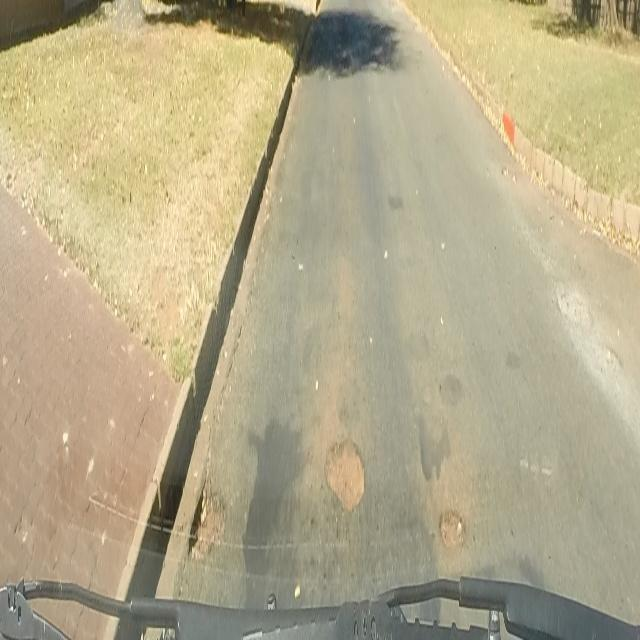pothole: (318, 429, 371, 517), (435, 503, 470, 554)
